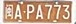A: (15, 5, 22, 19)
